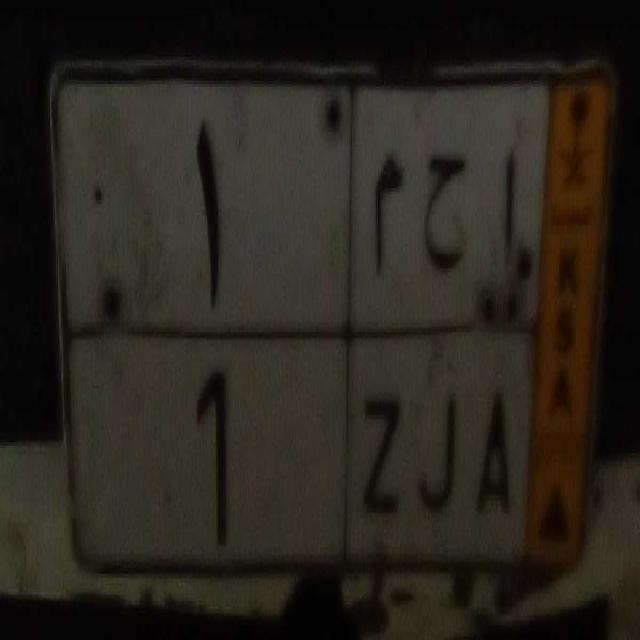license_plate: (70, 319, 526, 564)
